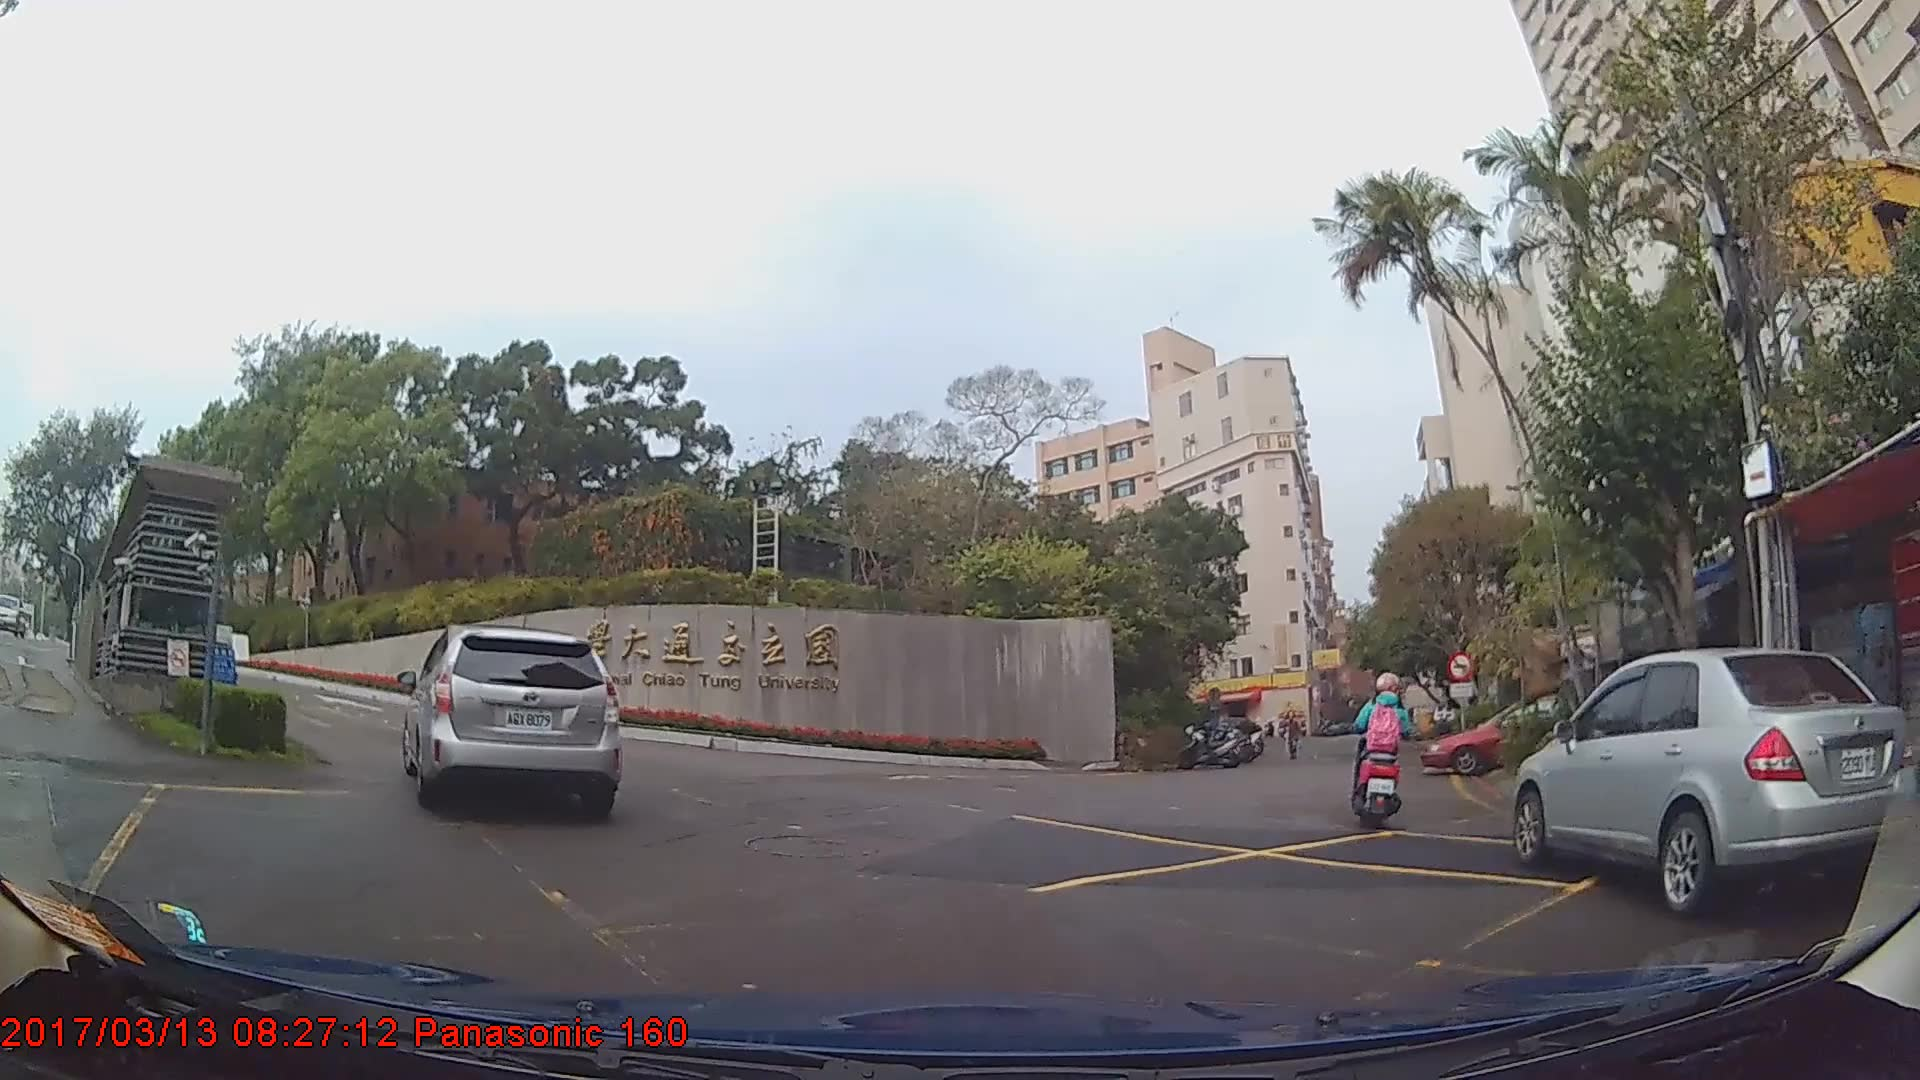pedestrian: (1281, 711, 1302, 762)
rider: (1344, 666, 1412, 834)
vehicle: (1512, 646, 1920, 918), (400, 623, 621, 814), (1422, 688, 1598, 771), (0, 591, 27, 636)
